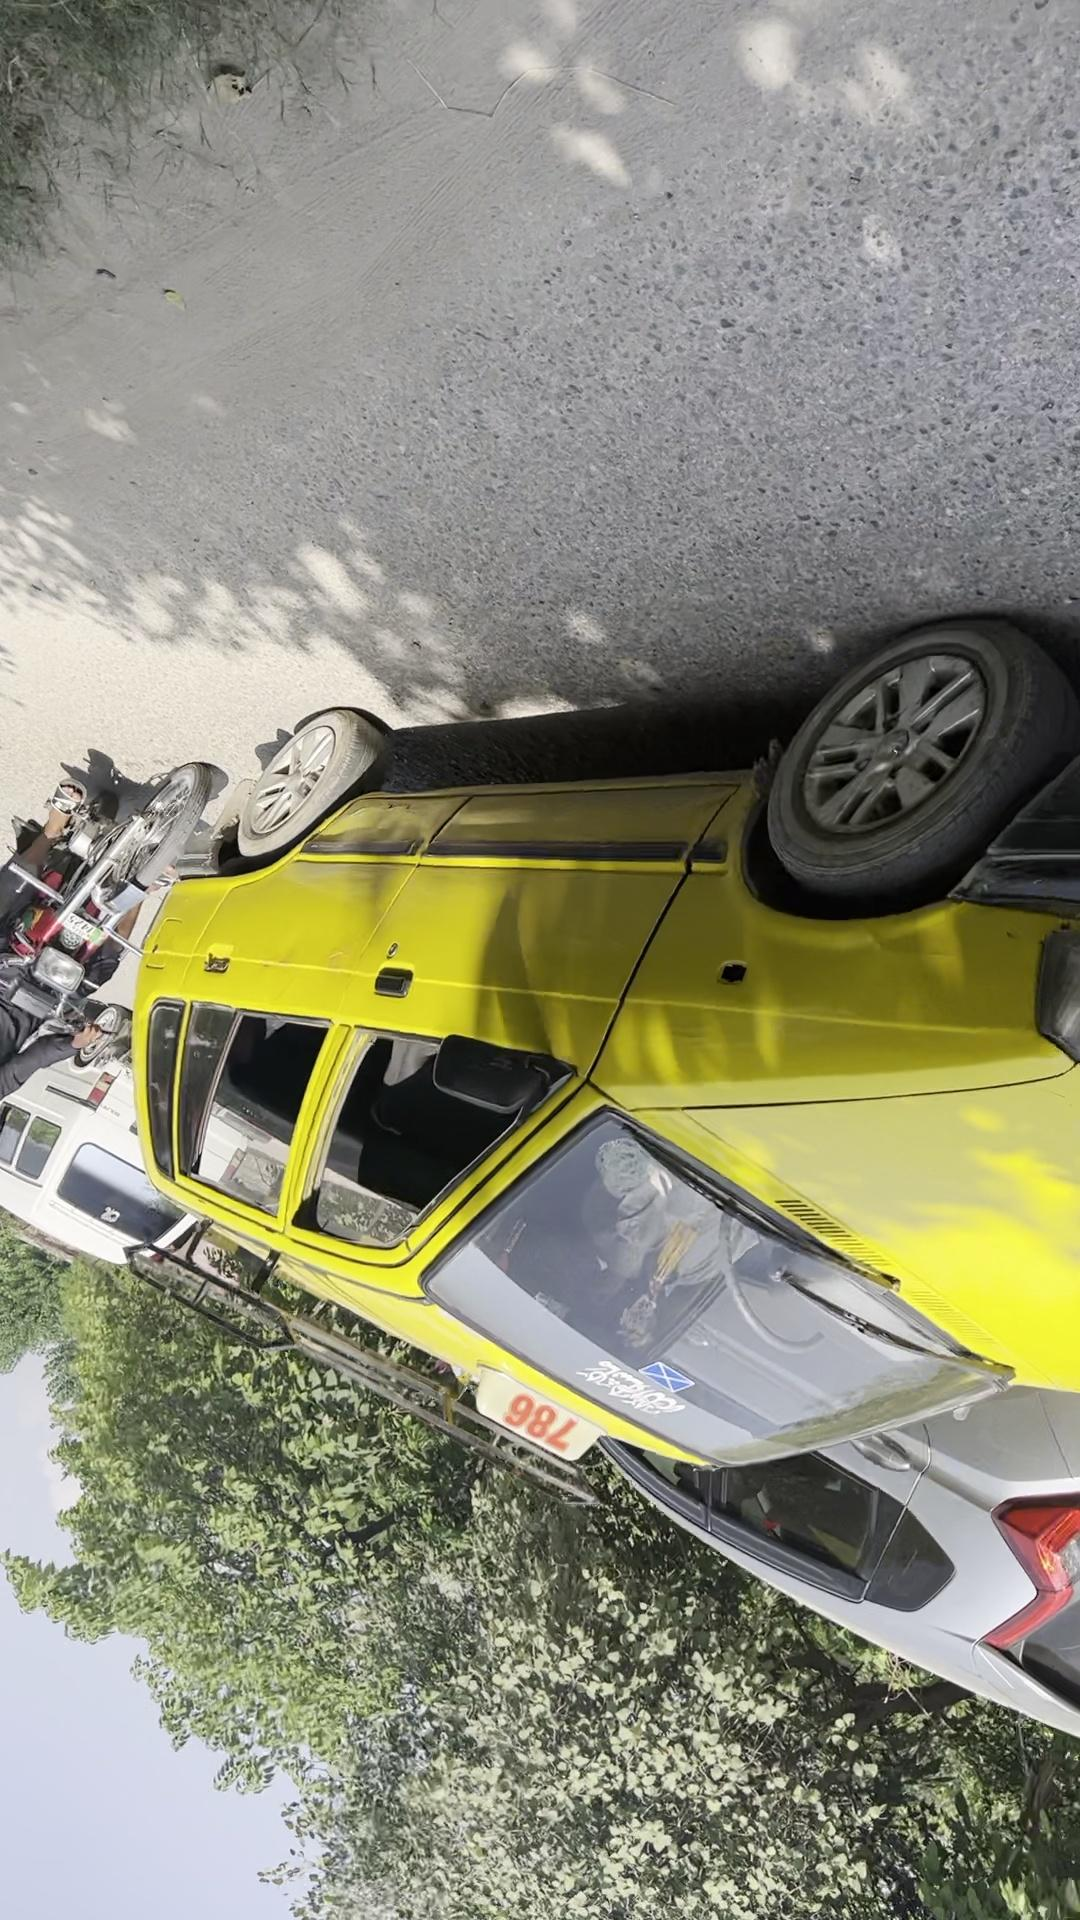windshield: (36, 440, 705, 835)
